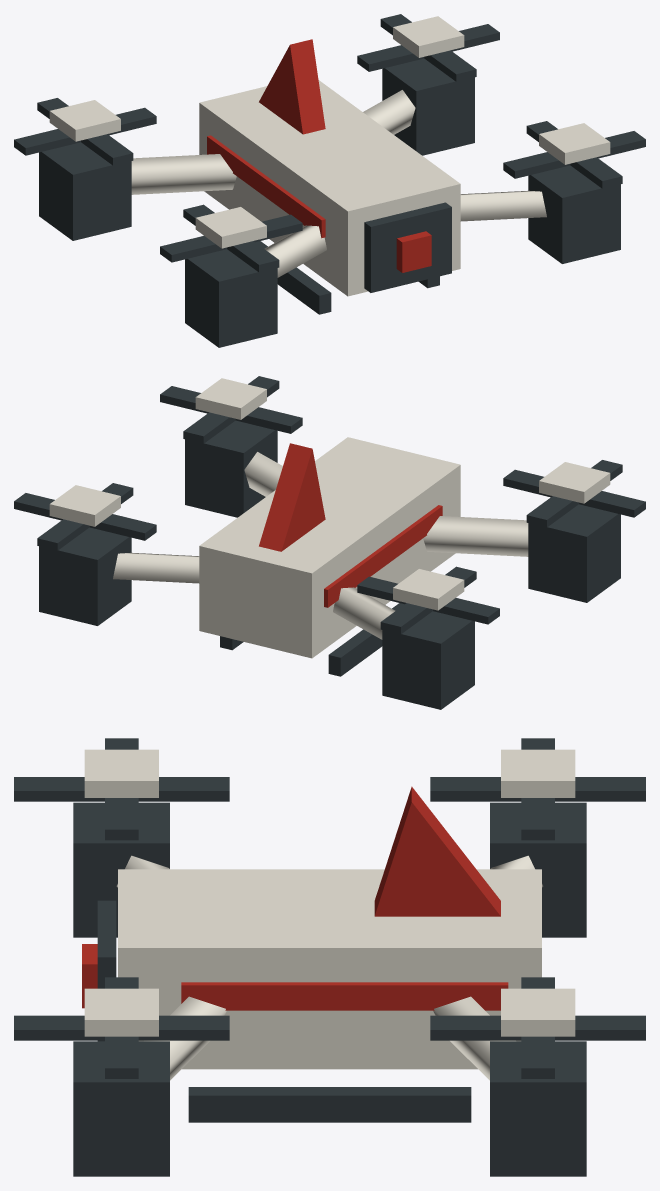
The picture shows the model from 3 angles, top to bottom: view 1: azimuth 30°, elevation 25°; view 2: azimuth 150°, elevation 25°; view 3: azimuth 270°, elevation 25°; orthographic projection. The views are drawn at different scales.
Parts seen in each view (by area): view 1: swarm-drone-fleet-machine, swarm-drone-fleet-armor, swarm-drone-fleet-red, rotor--1-1-fleet-machine, rotor-1--1-fleet-machine, rotor-1-1-fleet-machine, rotor--1--1-fleet-machine, rotor--1--1-fleet-armor, rotor-1--1-fleet-armor, rotor-1-1-fleet-armor, rotor--1-1-fleet-armor; view 2: swarm-drone-fleet-armor, swarm-drone-fleet-machine, swarm-drone-fleet-red, rotor--1--1-fleet-machine, rotor-1-1-fleet-machine, rotor-1--1-fleet-machine, rotor--1-1-fleet-machine, rotor--1-1-fleet-armor, rotor-1-1-fleet-armor, rotor-1--1-fleet-armor, rotor--1--1-fleet-armor; view 3: swarm-drone-fleet-armor, swarm-drone-fleet-machine, swarm-drone-fleet-red, rotor-1--1-fleet-machine, rotor-1-1-fleet-machine, rotor--1--1-fleet-machine, rotor--1-1-fleet-machine, rotor--1--1-fleet-armor, rotor--1-1-fleet-armor, rotor-1--1-fleet-armor, rotor-1-1-fleet-armor.
Boxes of the visible parts, x1,y1,x2,y2 form: swarm-drone-fleet-machine: (39,58,620,347); swarm-drone-fleet-armor: (131,80,546,296); swarm-drone-fleet-red: (207,39,431,272); rotor--1-1-fleet-machine: (160,204,302,272); rotor-1--1-fleet-machine: (357,14,499,81); rotor-1-1-fleet-machine: (503,121,645,188); rotor--1--1-fleet-machine: (14,98,156,165); rotor--1--1-fleet-armor: (49,100,120,141); rotor-1--1-fleet-armor: (393,16,464,57); rotor-1-1-fleet-armor: (539,123,610,164); rotor--1-1-fleet-armor: (195,207,266,248); swarm-drone-fleet-armor: (113,437,528,658); swarm-drone-fleet-machine: (39,420,620,709); swarm-drone-fleet-red: (259,443,442,607); rotor--1--1-fleet-machine: (357,566,499,634); rotor-1-1-fleet-machine: (160,376,302,443); rotor-1--1-fleet-machine: (14,483,156,550); rotor--1-1-fleet-machine: (503,460,645,527); rotor--1-1-fleet-armor: (539,462,610,503); rotor-1-1-fleet-armor: (195,378,266,419); rotor-1--1-fleet-armor: (49,485,120,526); rotor--1--1-fleet-armor: (393,569,464,610); swarm-drone-fleet-armor: (116,855,543,1080); swarm-drone-fleet-machine: (73,802,586,1176); swarm-drone-fleet-red: (82,786,508,1010); rotor-1--1-fleet-machine: (430,977,645,1078); rotor-1-1-fleet-machine: (14,977,229,1078); rotor--1--1-fleet-machine: (430,738,645,840); rotor--1-1-fleet-machine: (14,738,229,840); rotor--1--1-fleet-armor: (501,749,575,797); rotor--1-1-fleet-armor: (84,749,158,797); rotor-1--1-fleet-armor: (501,988,575,1036); rotor-1-1-fleet-armor: (84,988,158,1036).
Size of the model in its own units: 4.68 by 1.89 by 3.79.
